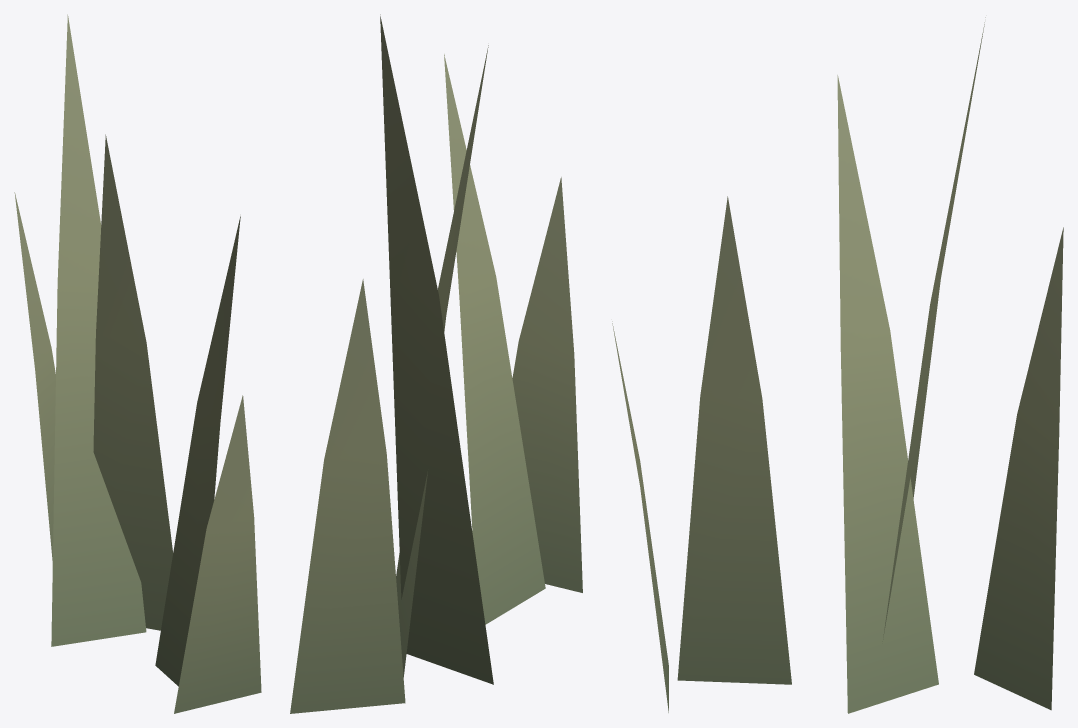
File: Nature_Grass_Tuft.glb
The picture shows the model from 3 angles, left to right: view 1: azimuth 30°, elevation 25°; view 2: azimuth 150°, elevation 25°; view 3: azimuth 270°, elevation 25°; orthographic projection. The views are drawn at different scales.
Visible parts, largest first — view 1: _MeshInstance3D_4461; view 2: _MeshInstance3D_4461; view 3: _MeshInstance3D_4461.
Part boxes in pixels (left/top/right/bottom): _MeshInstance3D_4461: left=14, top=14, right=261, bottom=713; _MeshInstance3D_4461: left=290, top=14, right=582, bottom=713; _MeshInstance3D_4461: left=612, top=17, right=1063, bottom=713.
Bounding box in the file's own units: 0.0928 × 0.45 × 0.2754.
